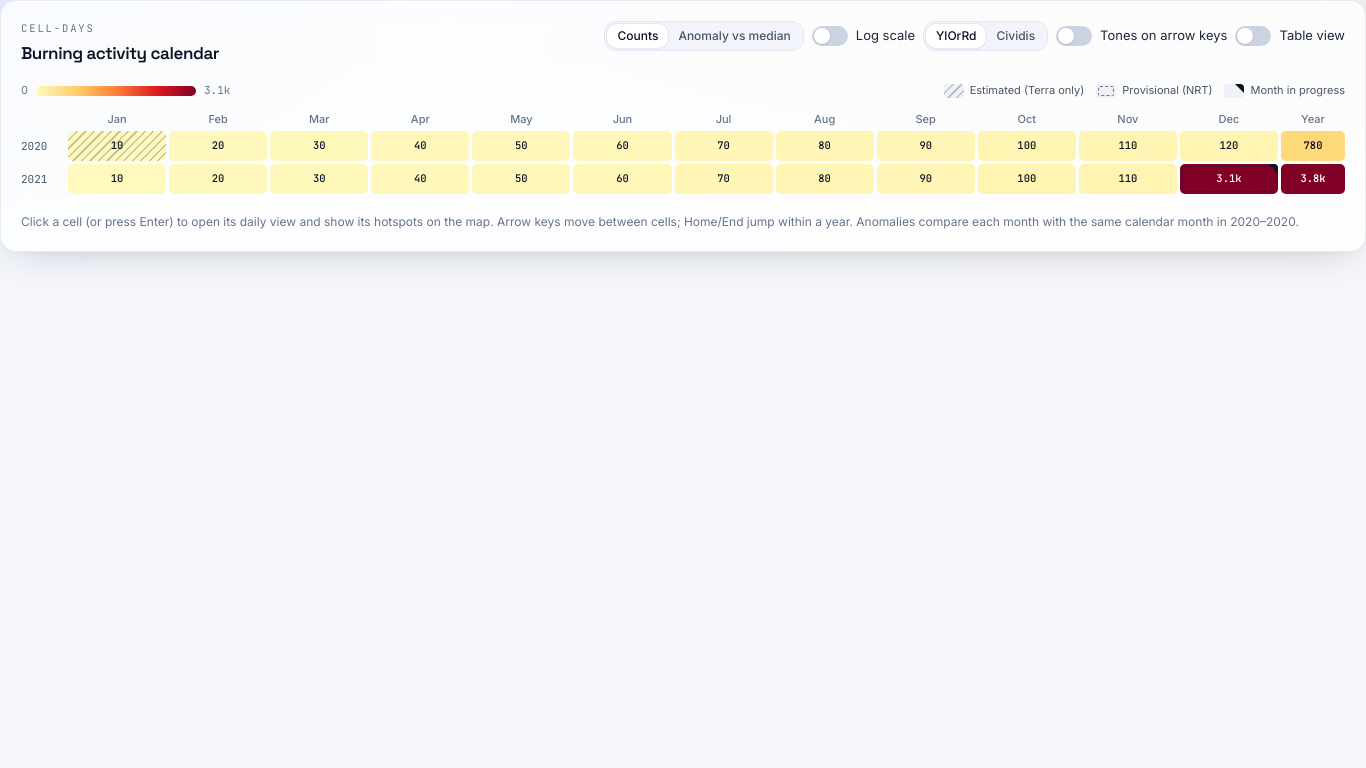
Test: Calendar › switches to the table view
Click the switch labelled "Table view".
click(1290, 36)  # box [1236, 26, 1345, 46]
(page scrolled)
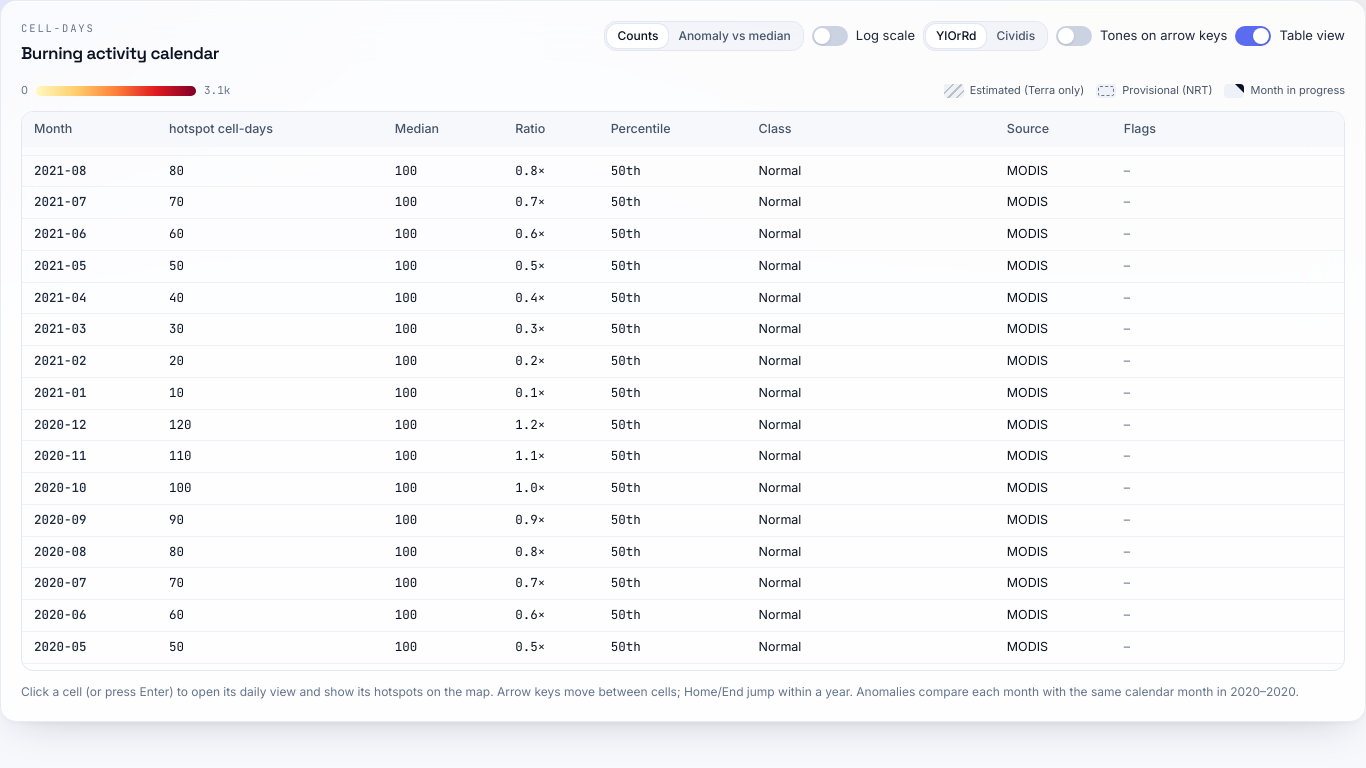
expect the table is shown: met
